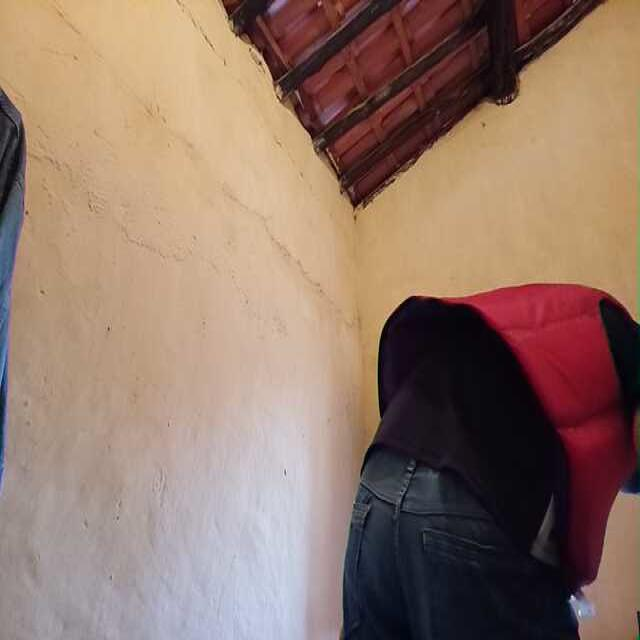colete: (493, 284, 619, 574)
pessoa: (338, 364, 640, 640)
